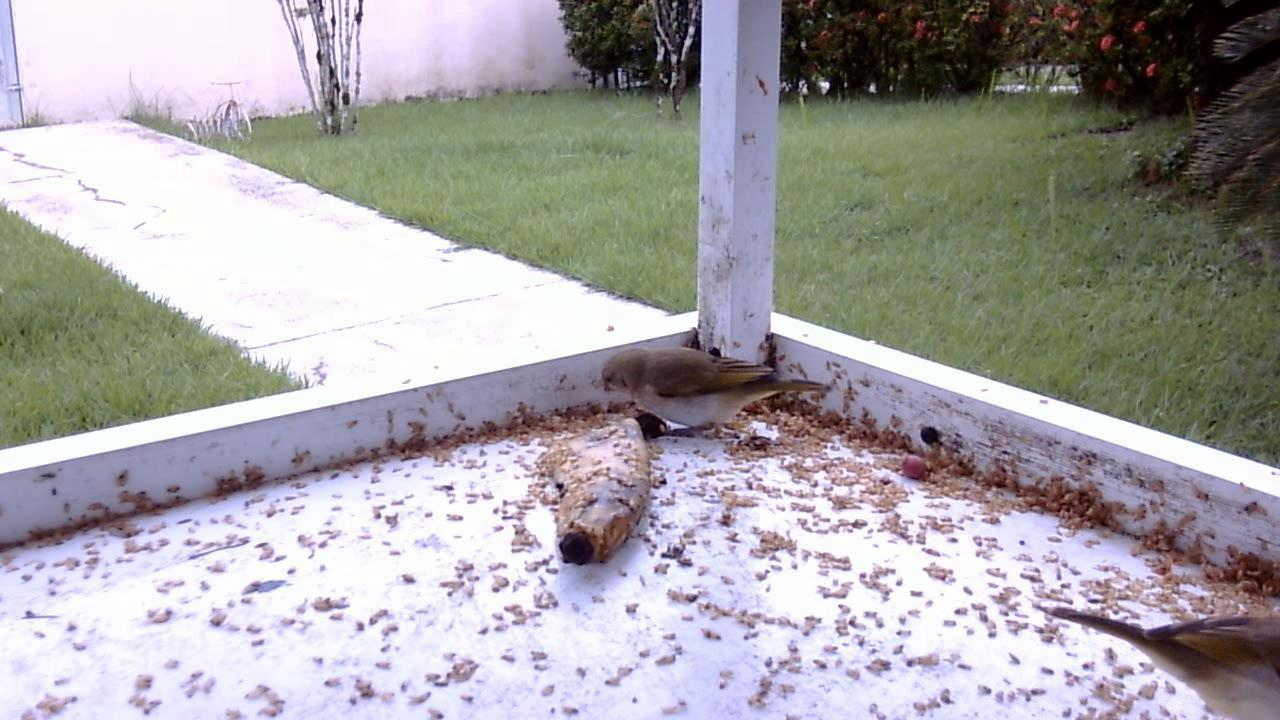canario_do_amazonas: (1032, 598, 1278, 716), (594, 341, 816, 449)
